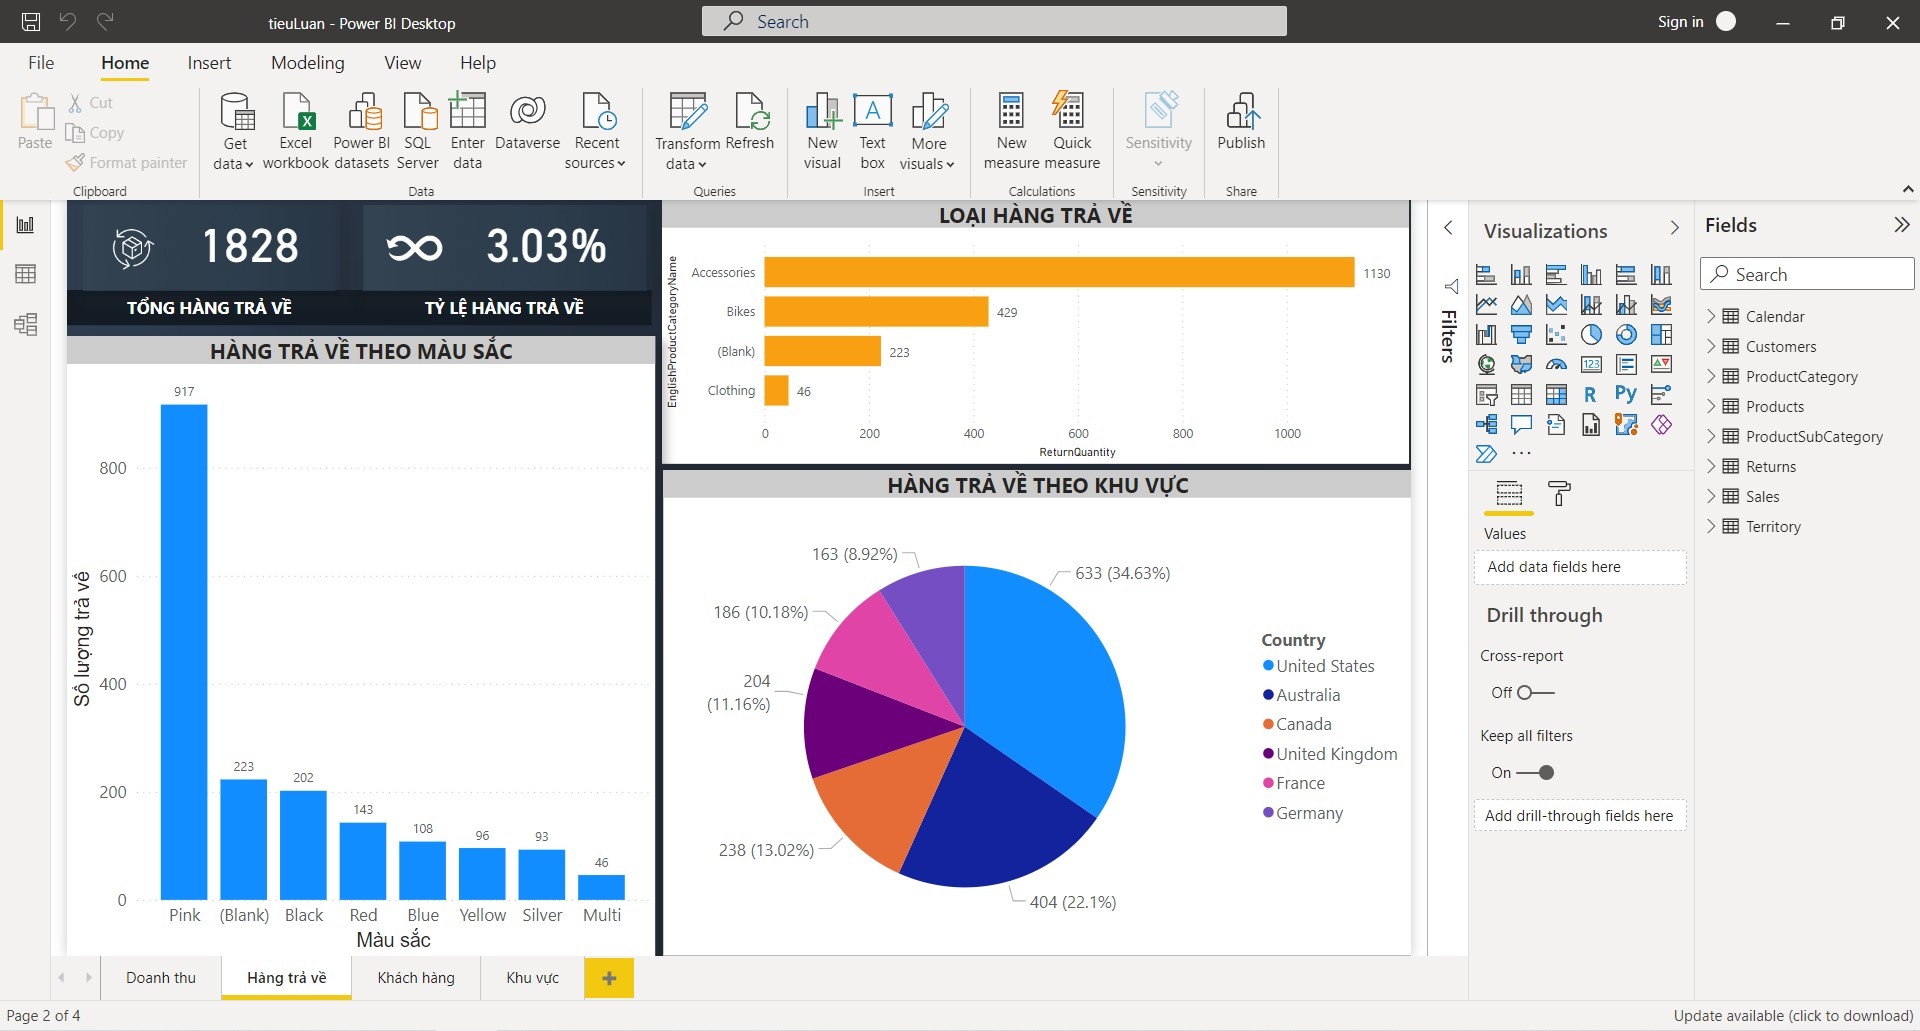

The page's visual inventory and layout, read from the dashboard file:
{"tool":"powerbi","page":{"name":"Hàng trả về","canvas":[1280,720],"ordinal":1},"visuals":[{"type":"shape","box":[0,86.2,556.7,34],"z":0},{"type":"image","box":[277,0,279.6,91.5],"z":1000},{"type":"image","box":[10.5,0,249.6,91.5],"z":2000},{"type":"card","fields":{"Values":["Returns.Tổng trả về"]},"box":[96.7,19.6,154.2,60.1],"z":3000},{"type":"card","fields":{"Values":["Sales.Tỷ lệ hàng bị trả về"]},"box":[381.3,19.6,151.6,60.1],"z":4000},{"type":"clusteredBarChart","title":"LOẠI HÀNG TRẢ VỀ","fields":{"Category":["ProductCategory.EnglishProductCategoryName"],"Y":["Sum(Returns.ReturnQuantity)"]},"box":[567.1,0,711.6,251],"z":5000},{"type":"clusteredColumnChart","title":"HÀNG TRẢ VỀ THEO MÀU SẮC","fields":{"Y":["Sum(Returns.ReturnQuantity)"],"Category":["Products.Color"]},"box":[0,129.4,560,590.6],"z":6000},{"type":"pieChart","title":"HÀNG TRẢ VỀ THEO KHU VỰC","fields":{"Category":["Territory.Country"],"Y":["Sum(Returns.ReturnQuantity)"]},"box":[567.1,257.4,713.5,462.6],"z":7000},{"type":"image","box":[26.1,11.8,70.6,67.9],"z":8000},{"type":"image","box":[295,11.8,70.6,67.9],"z":9000},{"type":"textbox","box":[39.2,86.2,192.1,34],"z":10000},{"type":"textbox","box":[320.1,86.2,192.1,34],"z":11000}]}

Visuals, with their boxes on the page's 1280x720 design canvas (x1, y1, x2, y2). These are canvas units, not pixel positions in the 1920x1031 screenshot, which may show the page scaled, cropped or inside an application window:
shape: 0, 86, 557, 120
image: 277, 0, 557, 92
image: 10, 0, 260, 92
card - Returns.Tổng trả về: 97, 20, 251, 80
card - Sales.Tỷ lệ hàng bị trả về: 381, 20, 533, 80
"LOẠI HÀNG TRẢ VỀ" clusteredBarChart: 567, 0, 1279, 251
"HÀNG TRẢ VỀ THEO MÀU SẮC" clusteredColumnChart: 0, 129, 560, 720
"HÀNG TRẢ VỀ THEO KHU VỰC" pieChart: 567, 257, 1281, 720
image: 26, 12, 97, 80
image: 295, 12, 366, 80
textbox: 39, 86, 231, 120
textbox: 320, 86, 512, 120
